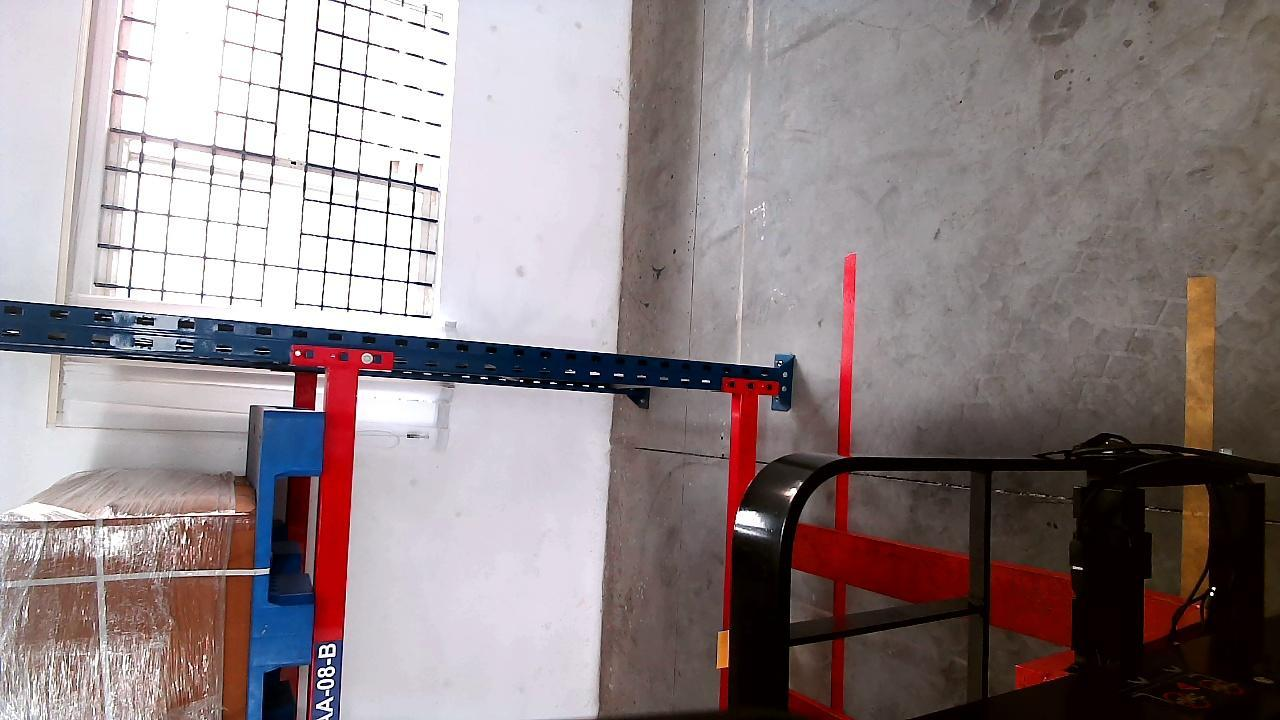red_line: (829, 252, 860, 711)
yellow_line: (1183, 278, 1215, 601)
